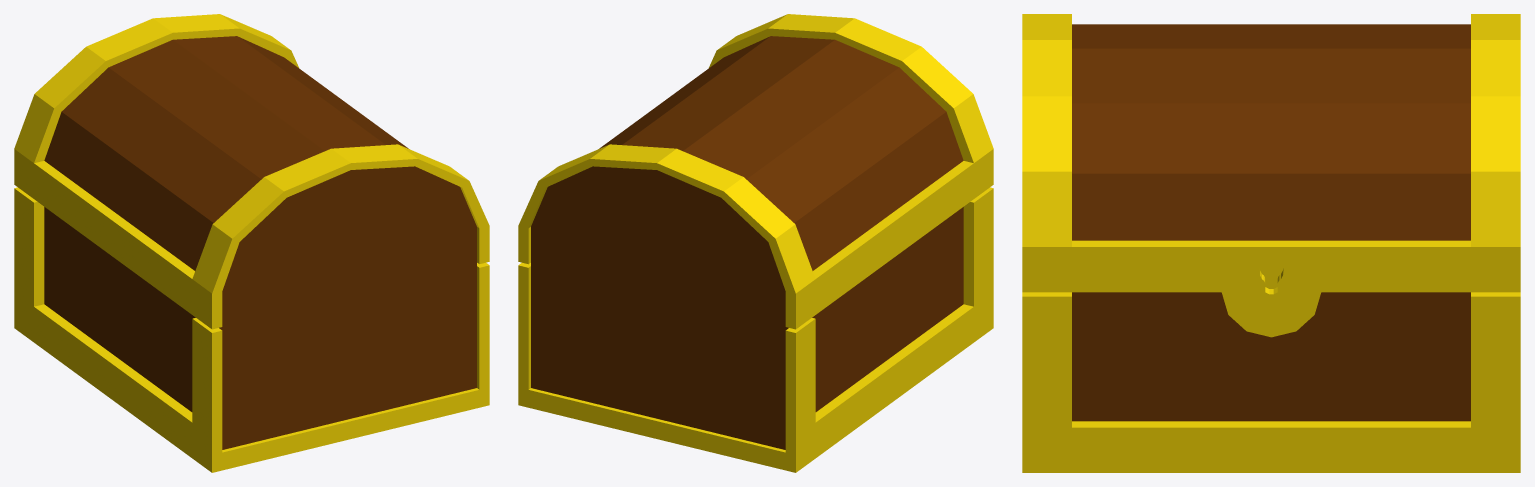
The model's file is Chest.fbx.
The picture shows the model from 3 angles, left to right: view 1: azimuth 30°, elevation 25°; view 2: azimuth 150°, elevation 25°; view 3: azimuth 270°, elevation 25°; orthographic projection. The views are drawn at different scales.
Parts seen in each view (by area): view 1: Chest; view 2: Chest; view 3: Chest.
Part boxes in pixels (x1=…): Chest: x1=14, y1=14, x2=489, y2=472; Chest: x1=518, y1=14, x2=993, y2=472; Chest: x1=1022, y1=14, x2=1520, y2=472.
Bounding box in the file's own units: 64.8 × 61.55 × 80.
